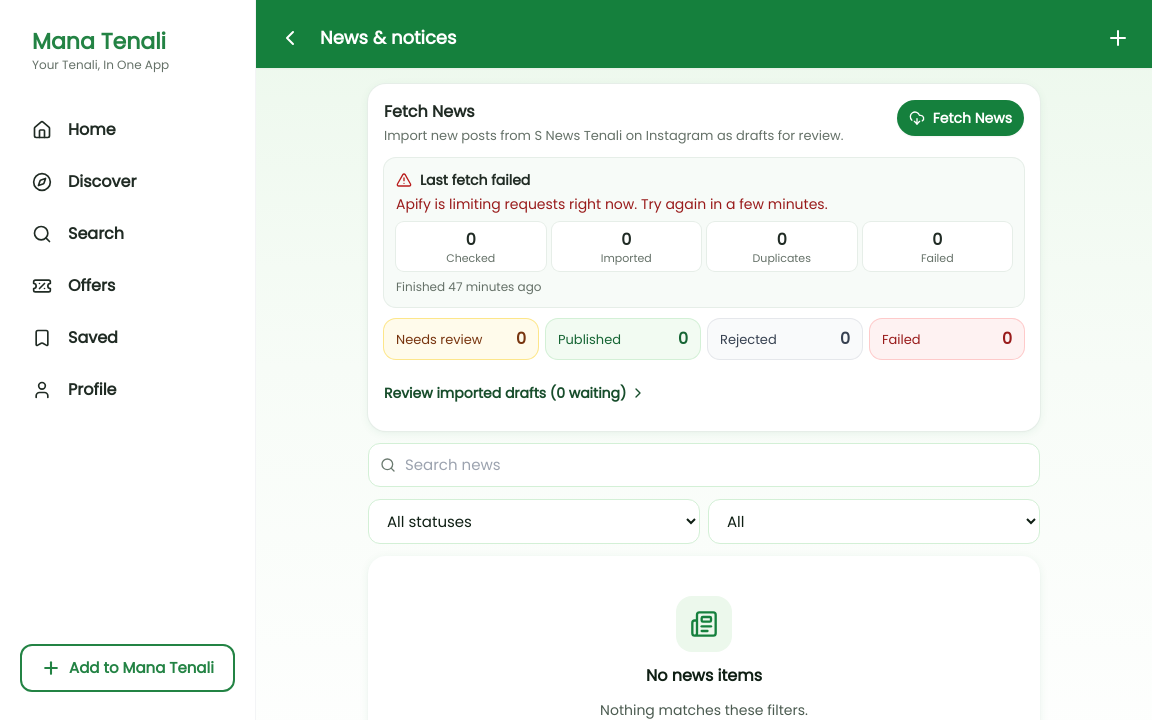
Fetch News panel (Admin News) › shows a useful error when the fetch fails or is not set up
The width and height of the screenshot is (1152, 720).
Check: the text "Last fetch failed" is shown, box [396,170,530,190]
Check: the text "Apify is limiting requests" is shown, box [396,194,828,214]
Click the button "Fetch News". click: (960, 118)
box: [897,100,1024,136]
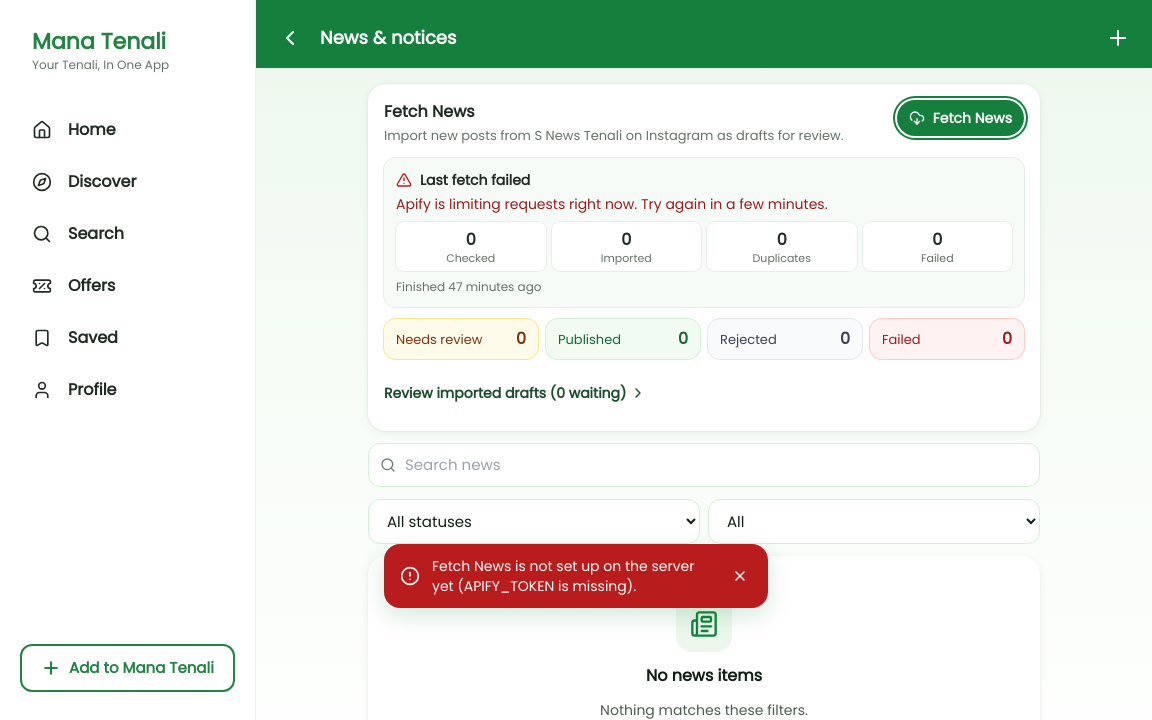
Check: the text "APIFY_TOKEN is missing" is shown, box [432,556,694,596]
